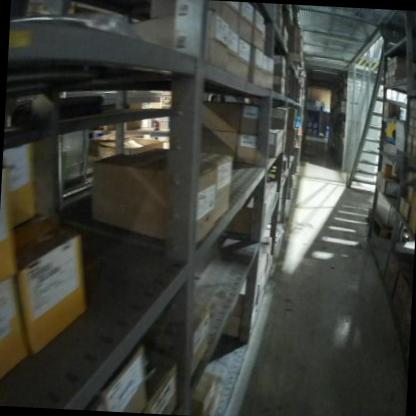pallet: (364, 209, 391, 240)
stillage: (53, 123, 95, 190)
